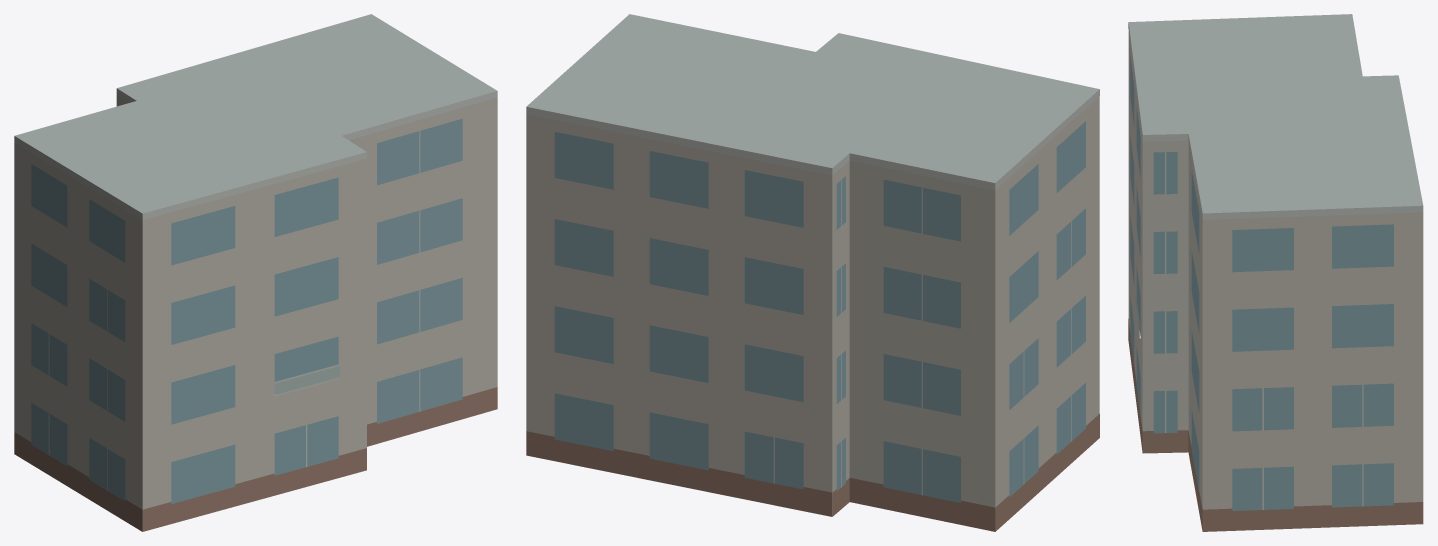
The model's file is survey-upis-32555654.glb.
The picture shows the model from 3 angles, left to right: view 1: azimuth 30°, elevation 25°; view 2: azimuth 150°, elevation 25°; view 3: azimuth 270°, elevation 25°; orthographic projection. The views are drawn at different scales.
Visible parts, largest first — view 1: survey-upis-32555654.tmp; view 2: survey-upis-32555654.tmp; view 3: survey-upis-32555654.tmp.
Part boxes in pixels (left/top/right/bottom): survey-upis-32555654.tmp: left=14, top=14, right=497, bottom=531; survey-upis-32555654.tmp: left=526, top=14, right=1099, bottom=531; survey-upis-32555654.tmp: left=1128, top=14, right=1423, bottom=531.
Bounding box in the file's own units: 15.79 × 11.75 × 9.87.
